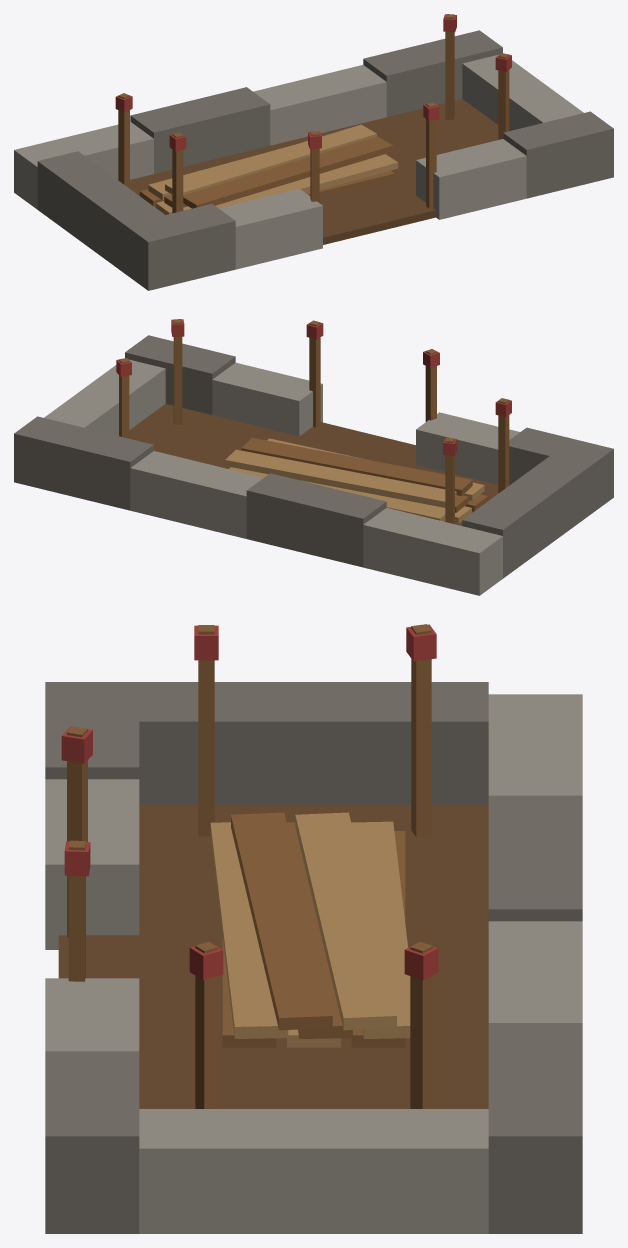
Rendered from site_4x2_1.glb.
The picture shows the model from 3 angles, top to bottom: view 1: azimuth 30°, elevation 25°; view 2: azimuth 150°, elevation 25°; view 3: azimuth 270°, elevation 25°; orthographic projection. The views are drawn at different scales.
Parts seen in each view (by area): view 1: site_4x2_1; view 2: site_4x2_1; view 3: site_4x2_1.
Part boxes in pixels (bbox=[...]): site_4x2_1: bbox=[14, 14, 613, 290]; site_4x2_1: bbox=[14, 319, 613, 595]; site_4x2_1: bbox=[45, 624, 582, 1233].
Bounding box in the file's own units: 4 × 0.9 × 2.
